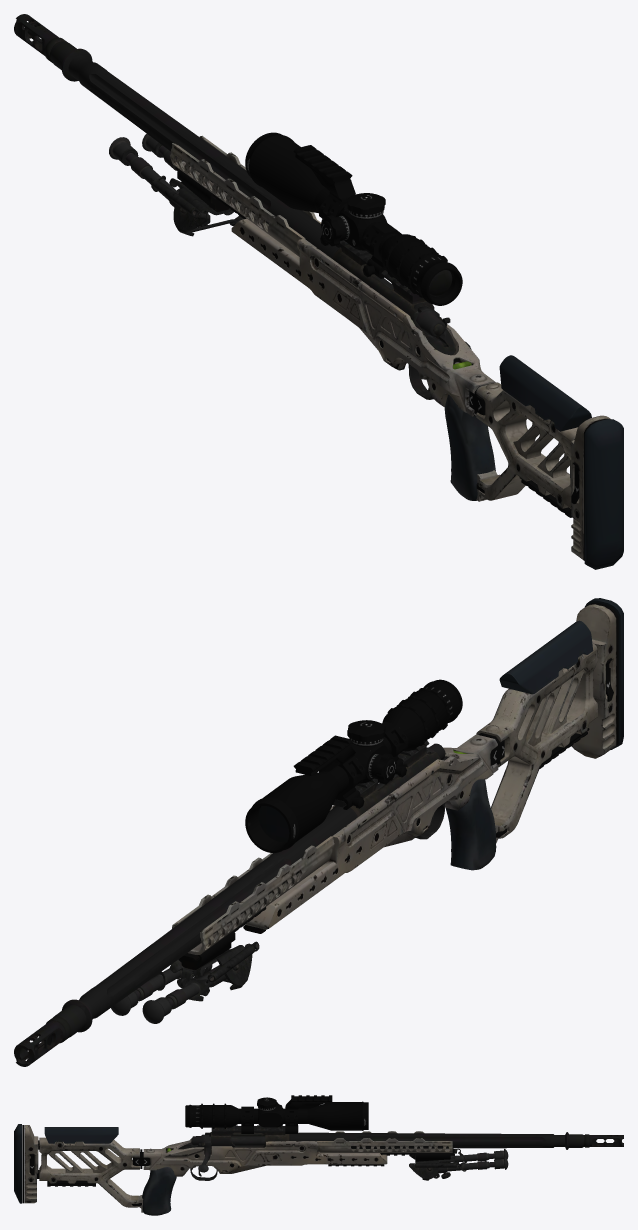
The model's file is ghost.glb.
3 renders of one model, top to bottom at view 1: azimuth 30°, elevation 25°; view 2: azimuth 150°, elevation 25°; view 3: azimuth 270°, elevation 25°, orthographic. The views are drawn at different scales.
Parts seen in each view (by area): view 1: Object_7, Object_9, Object_14, Object_11, Object_5; view 2: Object_7, Object_9, Object_14, Object_5, Object_11; view 3: Object_7, Object_9, Object_14, Object_11, Object_5.
Part boxes in pixels (left/top/right/bottom): Object_7: left=14, top=14, right=497, bottom=501; Object_9: left=469, top=355, right=623, bottom=569; Object_14: left=245, top=132, right=462, bottom=305; Object_11: left=332, top=240, right=471, bottom=399; Object_5: left=109, top=133, right=244, bottom=236; Object_7: left=14, top=734, right=498, bottom=1066; Object_9: left=476, top=598, right=623, bottom=838; Object_14: left=245, top=679, right=462, bottom=852; Object_5: left=111, top=941, right=259, bottom=1023; Object_11: left=333, top=740, right=449, bottom=839; Object_7: left=139, top=1131, right=623, bottom=1215; Object_9: left=14, top=1124, right=150, bottom=1207; Object_14: left=185, top=1095, right=368, bottom=1133; Object_11: left=178, top=1125, right=298, bottom=1180; Object_5: left=409, top=1148, right=508, bottom=1180.
Size of the model in its own units: 0.0848 by 0.2402 by 1.15.
5 materials, 5 textured.
